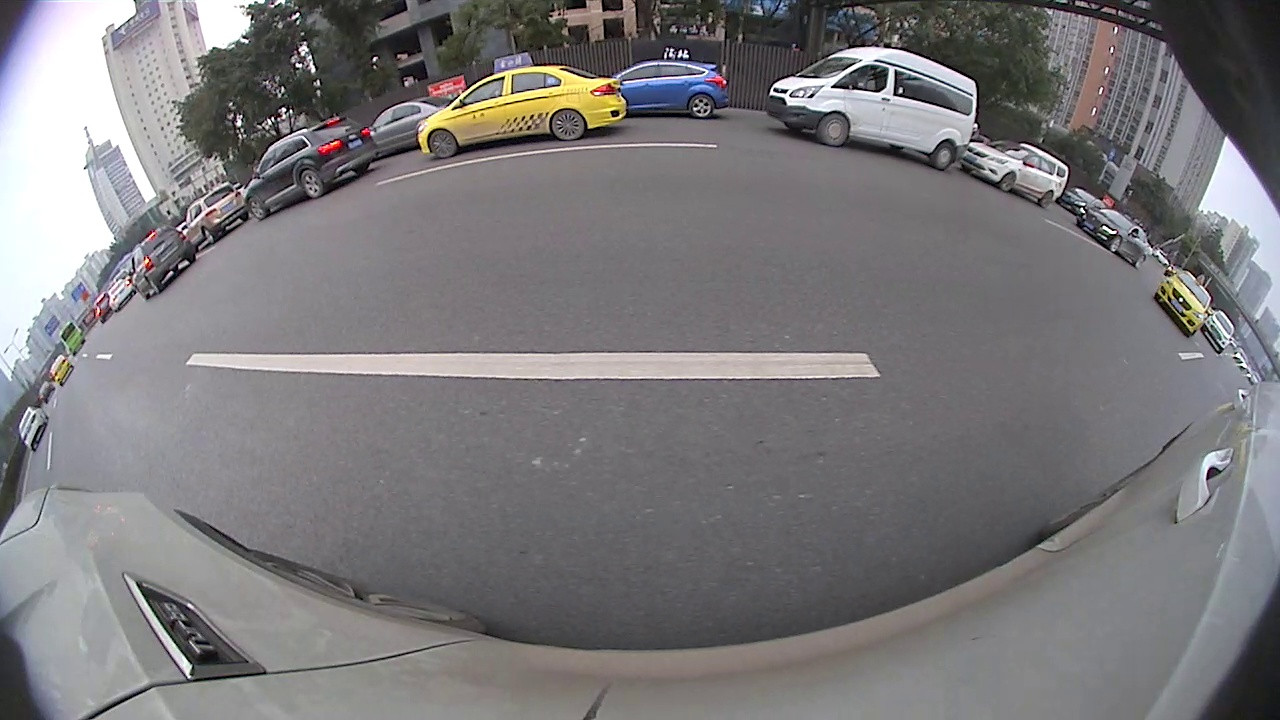car: (765, 46, 977, 173), (416, 53, 625, 160), (243, 114, 380, 221), (961, 141, 1069, 211), (612, 59, 731, 119), (370, 96, 455, 158), (130, 228, 198, 301), (1074, 204, 1149, 269), (185, 181, 250, 247), (1154, 269, 1214, 340), (1201, 309, 1235, 355), (18, 407, 49, 453)
front: (819, 111, 850, 147), (430, 131, 454, 157), (249, 199, 267, 220), (1001, 173, 1018, 192), (1111, 238, 1122, 253)
rear: (551, 111, 584, 139), (302, 172, 327, 198), (935, 142, 954, 170), (689, 95, 712, 118), (1039, 191, 1053, 208), (1136, 256, 1147, 268)
